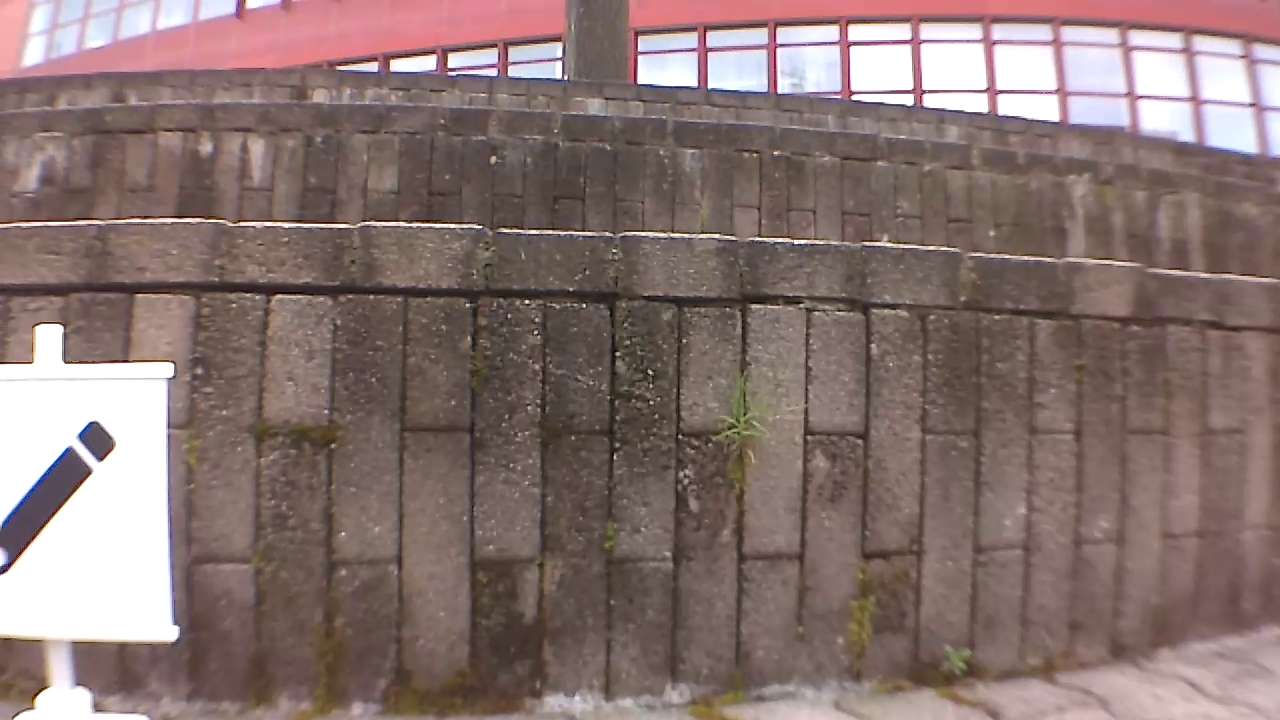pencil: (0, 416, 118, 589)
